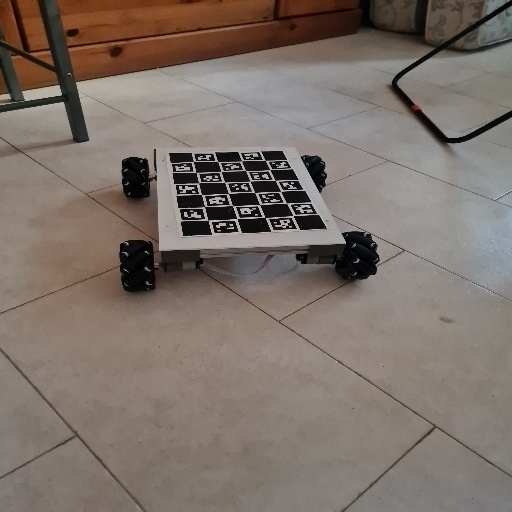Omniwheel: (118, 145, 384, 296)
